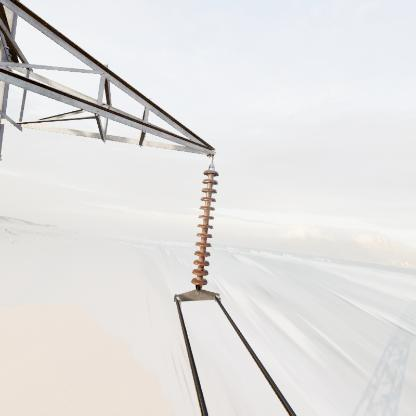insulator: (189, 167, 223, 293)
